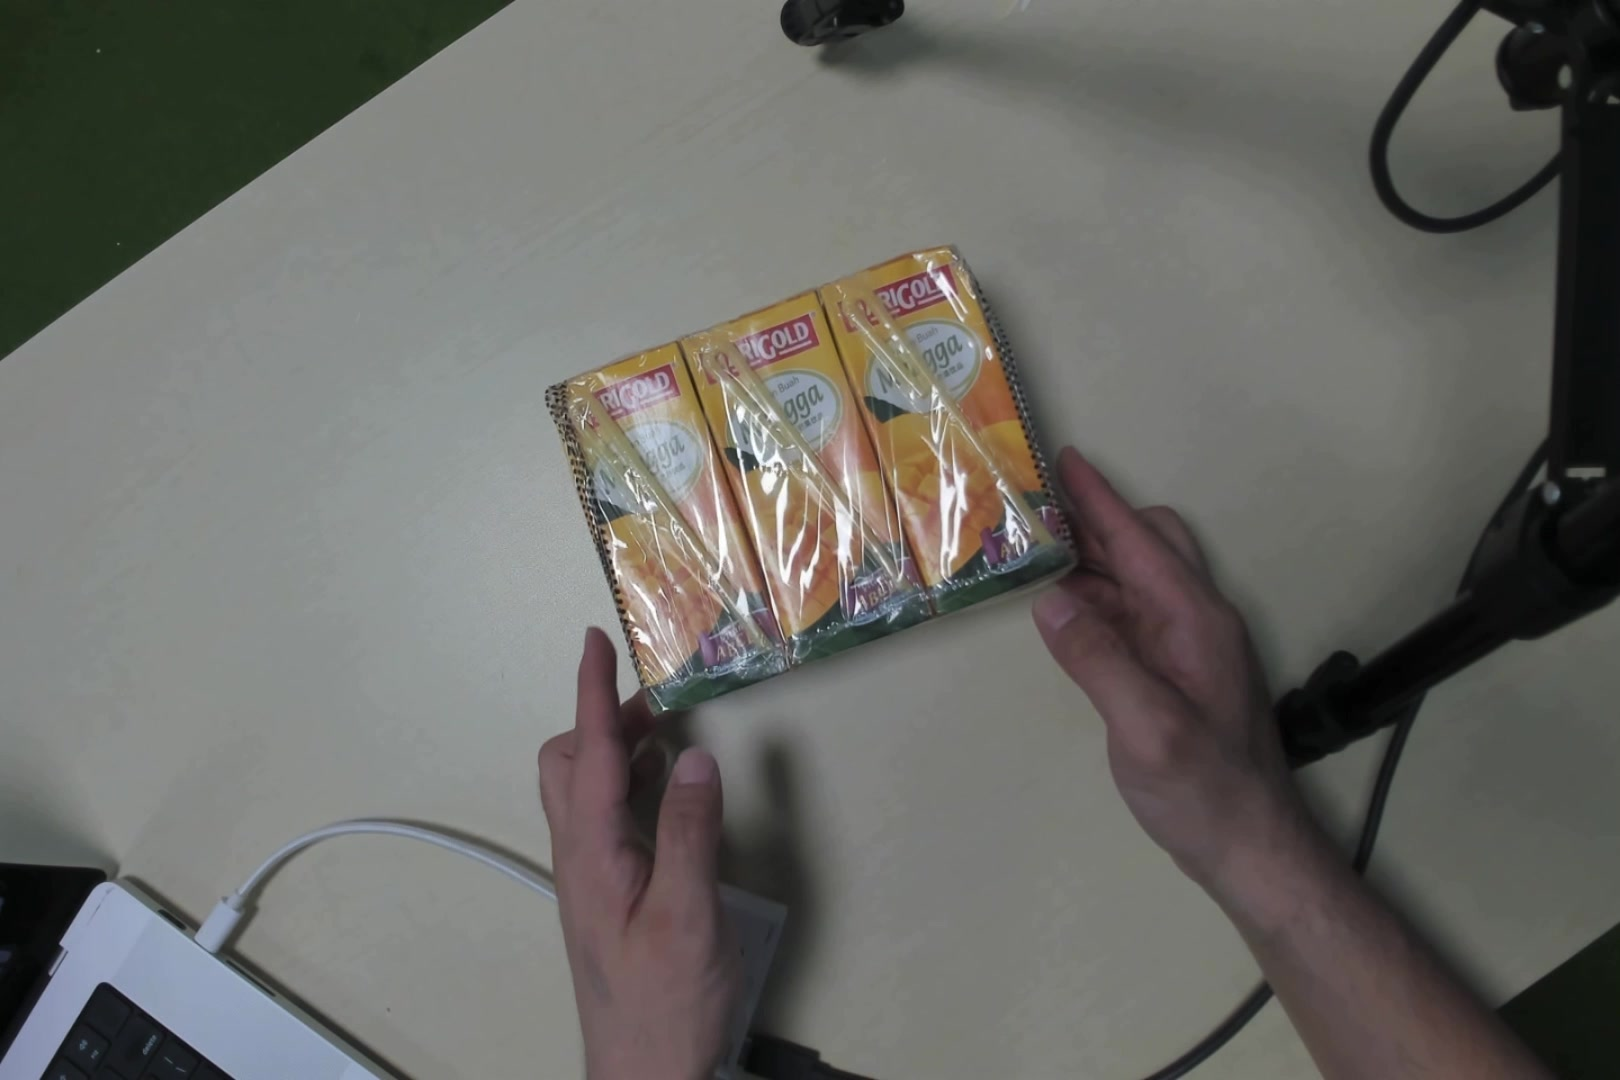FruitJuice_700-799g_Halal_NonHealthy: (601, 276, 1035, 673)
